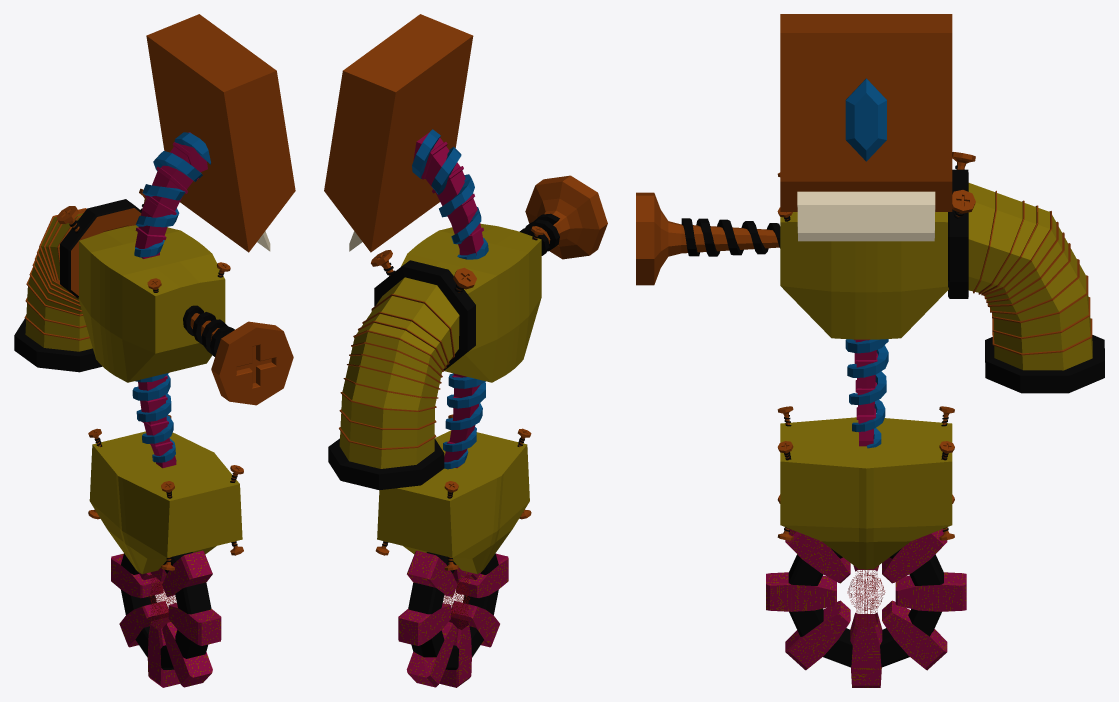
File: Enemy_Medium.fbx
3 renders of one model, left to right at view 1: azimuth 30°, elevation 25°; view 2: azimuth 150°, elevation 25°; view 3: azimuth 270°, elevation 25°, orthographic. The views are drawn at different scales.
Parts seen in each view (by area): view 1: Enemy_Medium; view 2: Enemy_Medium; view 3: Enemy_Medium.
Boxes of the visible parts, x1=… form: Enemy_Medium: x1=14, y1=14, x2=295, y2=687; Enemy_Medium: x1=324, y1=14, x2=607, y2=687; Enemy_Medium: x1=636, y1=14, x2=1104, y2=687.
Bounding box in the file's own units: 110 × 256 × 415.
1 material, 1 textured.
